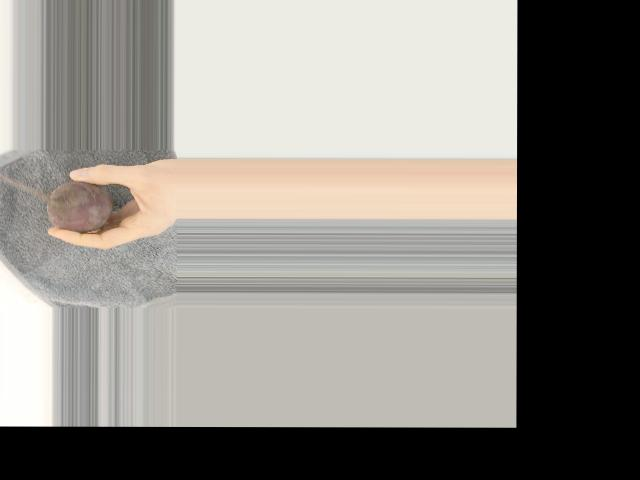beet: (47, 180, 112, 232)
